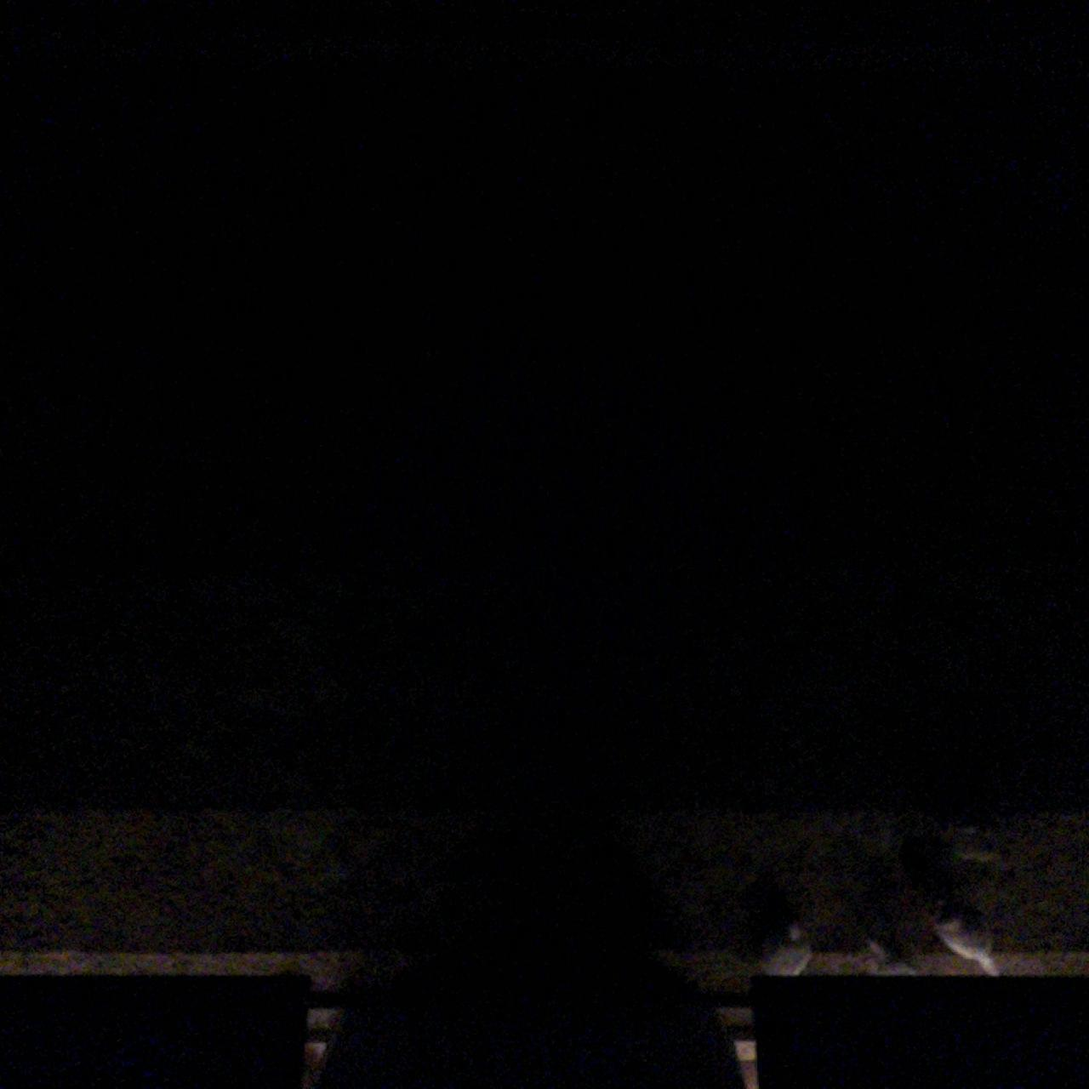chicken: (926, 894, 1007, 982), (937, 814, 1008, 870), (760, 916, 818, 982), (860, 919, 919, 983)
